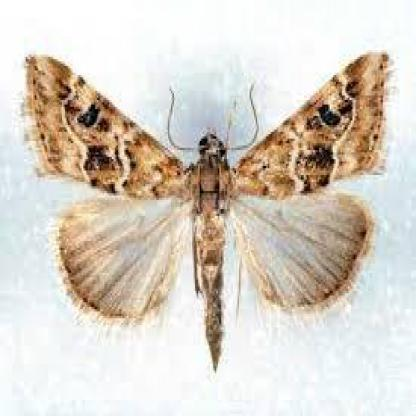Hellula undalis: (20, 45, 399, 390)
